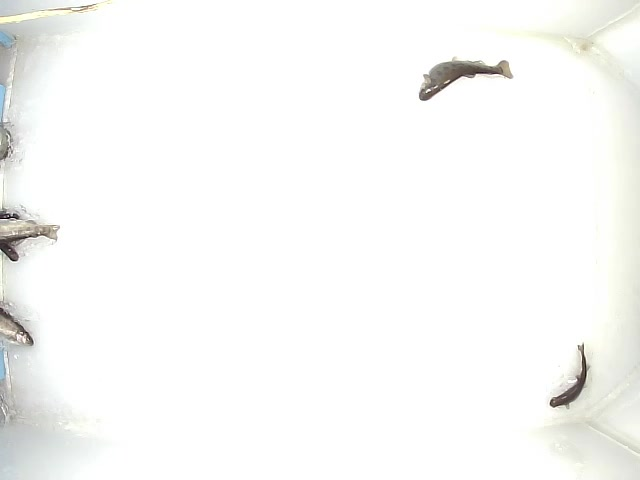fish: (416, 57, 516, 102), (547, 341, 593, 410)
